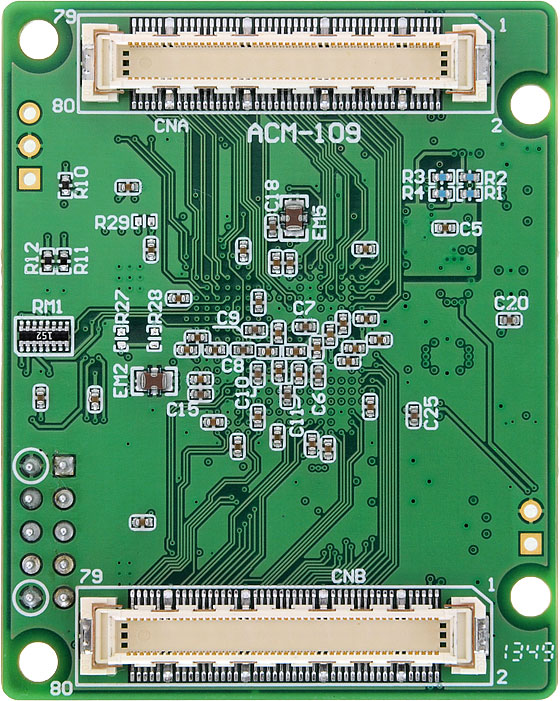capacitor C10: (251, 361, 265, 387)
capacitor C11: (281, 383, 295, 408)
capacitor C15: (189, 388, 213, 401)
capacitor C18: (265, 215, 281, 240)
capacitor C20: (496, 313, 522, 327)
capacitor C25: (407, 403, 420, 427)
capacitor C5: (432, 221, 457, 235)
capacitor C6: (313, 364, 327, 388)
capacitor C7: (293, 320, 319, 334)
capacitor C8: (231, 342, 256, 357)
capacitor C9: (242, 323, 267, 338)
capacitor unknown: (230, 432, 245, 459), (116, 180, 142, 195), (236, 238, 251, 264), (352, 241, 378, 256), (366, 332, 392, 347), (270, 424, 285, 450), (174, 343, 201, 357), (251, 289, 265, 316), (271, 320, 286, 345), (201, 415, 226, 430), (130, 515, 155, 530), (336, 311, 350, 337), (335, 355, 361, 369), (88, 387, 102, 413), (324, 322, 337, 349), (283, 251, 297, 276), (321, 437, 335, 462), (355, 311, 378, 326), (293, 362, 306, 388), (343, 341, 367, 355), (363, 395, 377, 419), (251, 406, 265, 430), (257, 345, 281, 359), (144, 237, 157, 262), (167, 291, 192, 304), (273, 360, 286, 384), (185, 331, 211, 343), (204, 343, 226, 357), (312, 336, 324, 361), (305, 431, 317, 456), (188, 373, 213, 385), (284, 345, 307, 358), (35, 386, 47, 410), (270, 251, 281, 276)
component text" 152: (33, 329, 54, 342)
connector CN2: (13, 94, 47, 197)
connector CNA: (79, 12, 495, 111)
connector CNB: (77, 586, 492, 688)
connector TP1: (514, 488, 549, 563)
emi filter" EM2: (133, 369, 176, 396)
emi filter" EM5: (284, 198, 306, 240)
pads R19: (130, 213, 160, 230)
pads R27: (113, 324, 129, 352)
pads R28: (146, 325, 162, 352)
pins unknown: (9, 443, 78, 621)
resistor R1: (457, 187, 484, 201)
resistor R10: (58, 175, 74, 199)
resistor R11: (59, 249, 71, 273)
resistor R12: (41, 248, 54, 275)
resistor R2: (458, 170, 484, 184)
resistor R3: (430, 170, 457, 184)
resistor R4: (429, 186, 457, 200)
resistor network" RM1: (17, 316, 73, 356)
text "ACM-109: (240, 120, 363, 145)
text 1: (496, 14, 512, 35), (486, 576, 496, 594)
text 1349: (500, 639, 557, 664)
text 2: (490, 116, 505, 136), (495, 668, 510, 688)
text 79: (78, 568, 106, 585), (53, 6, 79, 24)
text 80: (50, 97, 77, 115), (49, 680, 76, 697)
text C10: (233, 375, 253, 411)
text C11: (289, 407, 306, 439)
text C15: (164, 401, 201, 419)
text C18: (262, 178, 280, 212)
text C20: (494, 294, 531, 312)
text C25: (423, 395, 440, 432)
text C5: (459, 221, 484, 238)
text C6: (310, 391, 328, 417)
text C7: (291, 299, 317, 316)
text C8: (221, 358, 247, 373)
text C9: (215, 309, 241, 325)
text CNA: (154, 118, 190, 135)
text CNB: (330, 567, 370, 584)
text EM2: (111, 363, 130, 399)
text EM5: (310, 205, 330, 242)
text R1: (484, 185, 504, 201)
text R10: (73, 166, 88, 200)
text R11: (73, 246, 90, 276)
text R12: (24, 240, 40, 275)
text R2: (484, 169, 511, 186)
text R27: (113, 288, 130, 325)
text R28: (147, 288, 163, 325)
text R29: (93, 213, 132, 231)
text R3: (401, 167, 427, 185)
text R4: (400, 185, 428, 202)
text RM1: (30, 297, 66, 317)
